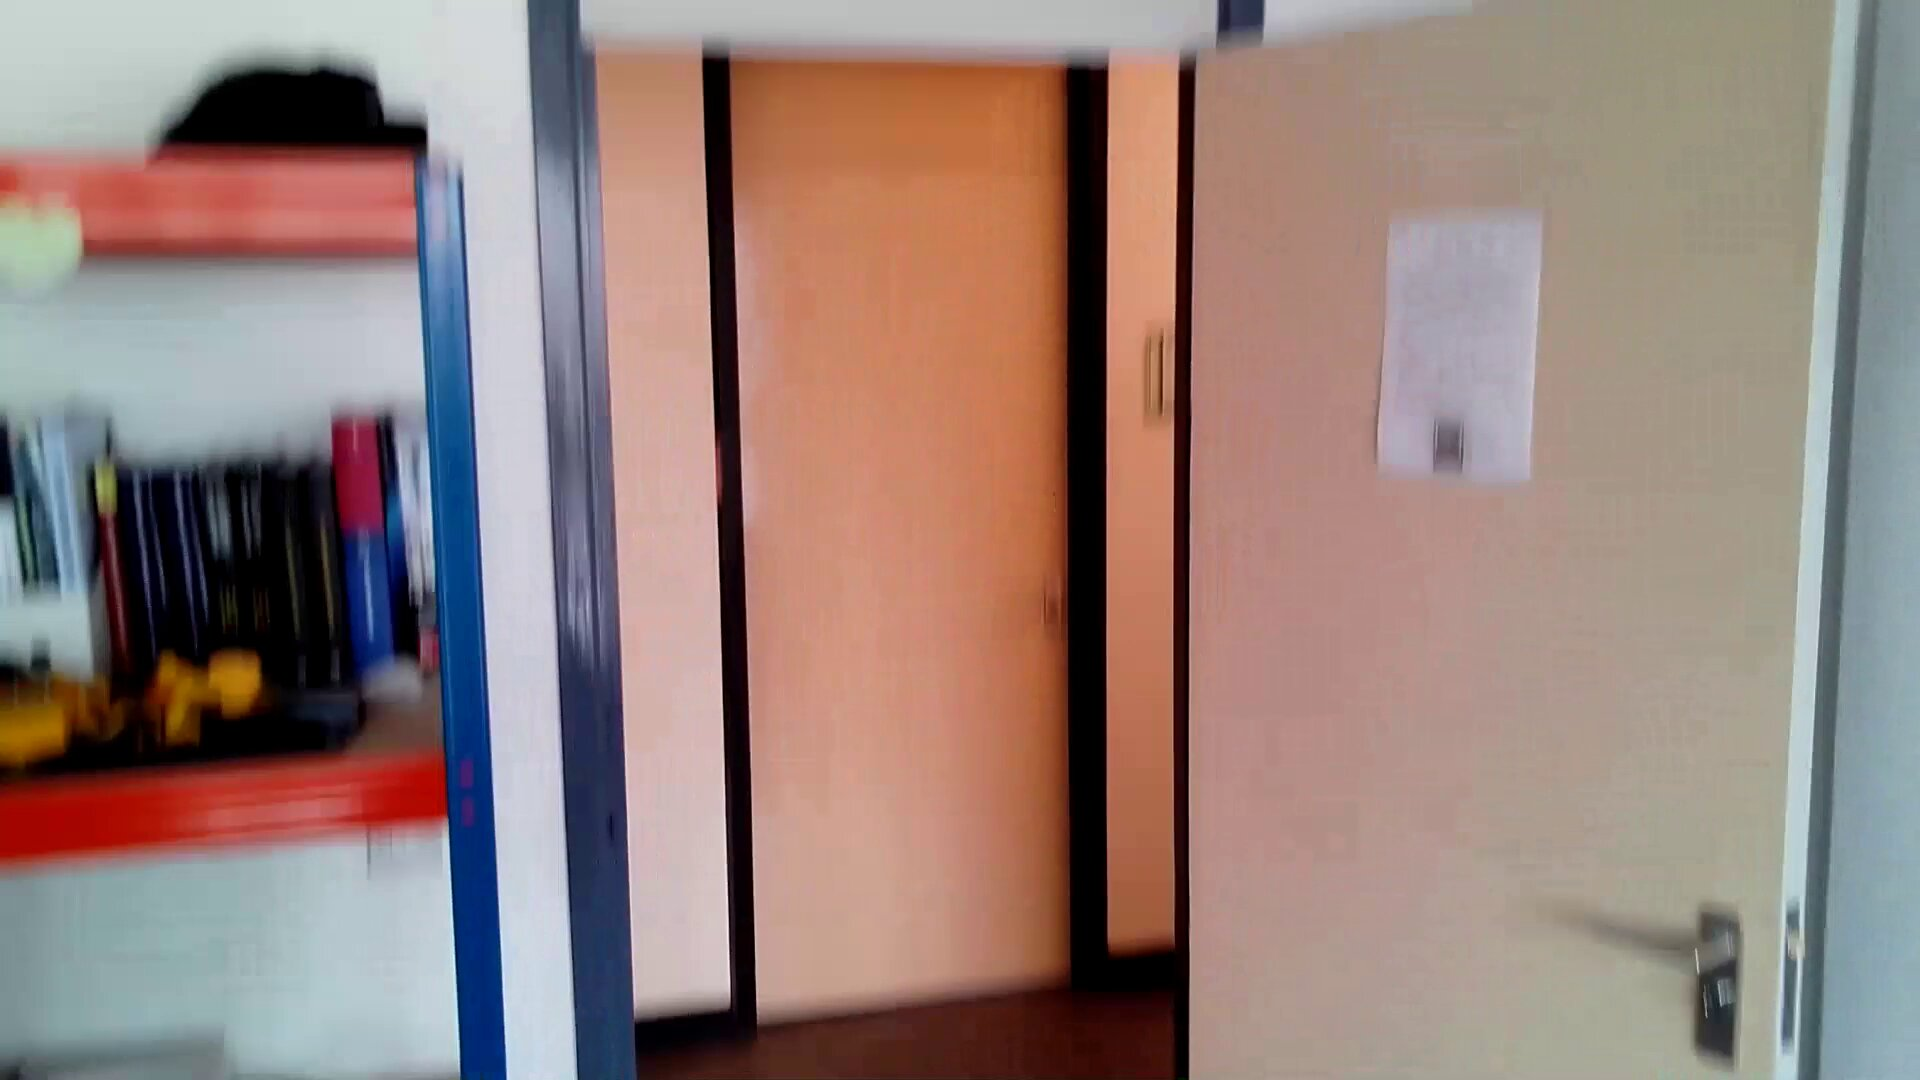Door: (1178, 29, 1824, 1080), (700, 46, 1135, 1005)
